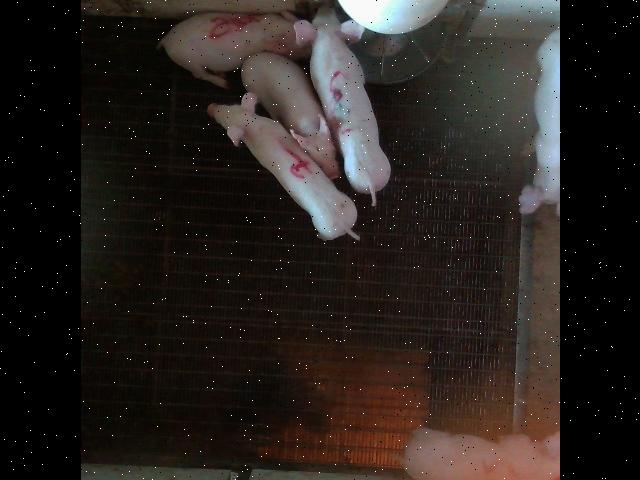pig-1: (518, 29, 559, 215)
pig-2: (401, 429, 558, 480)
pig-3: (292, 6, 389, 205)
pig-4: (208, 94, 356, 240)
pig-5: (158, 12, 309, 89)
